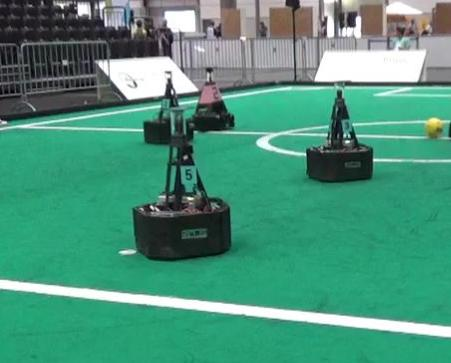robot: (128, 104, 234, 263), (305, 77, 375, 183), (142, 67, 197, 143), (188, 64, 238, 133)
